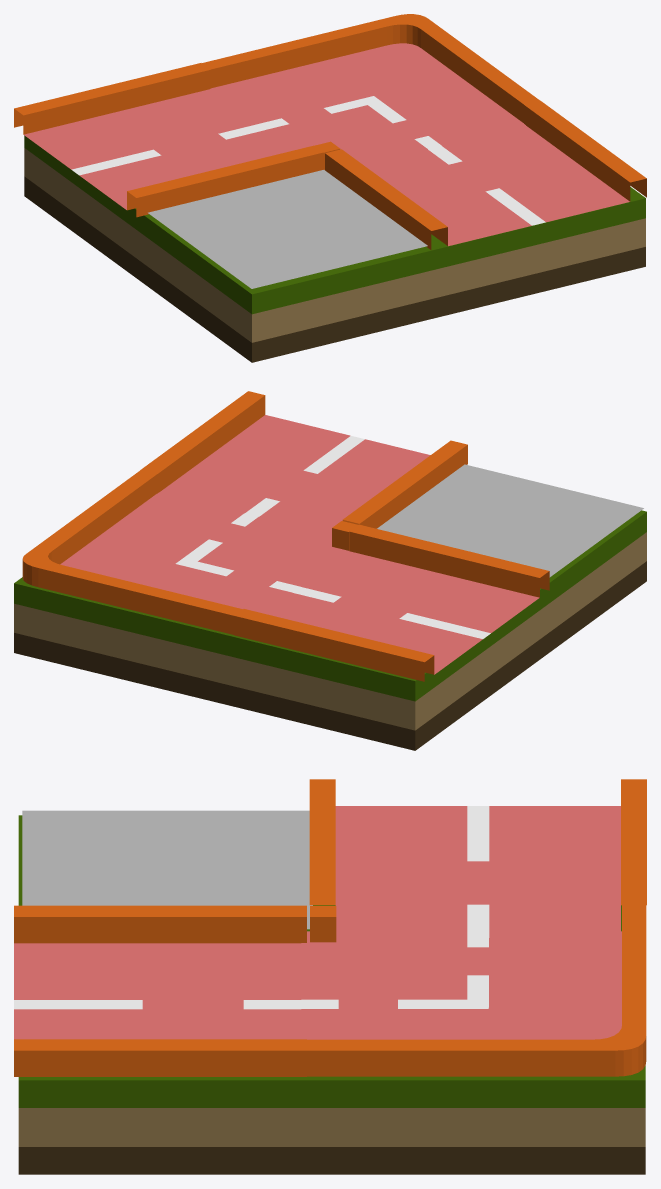
The model's file is rotate bicycle road.fbx.
3 views of the same model, one above another, from view 1: azimuth 30°, elevation 25°; view 2: azimuth 150°, elevation 25°; view 3: azimuth 270°, elevation 25° (orthographic). The views are drawn at different scales.
Visible parts, largest first — view 1: Plane.017; view 2: Plane.017; view 3: Plane.017.
Part boxes in pixels (x1,y1,x2,y2): Plane.017: (14, 14, 646, 362); Plane.017: (14, 391, 646, 750); Plane.017: (14, 779, 646, 1174).
Size of the model in its own units: 205 by 43.47 by 202.
